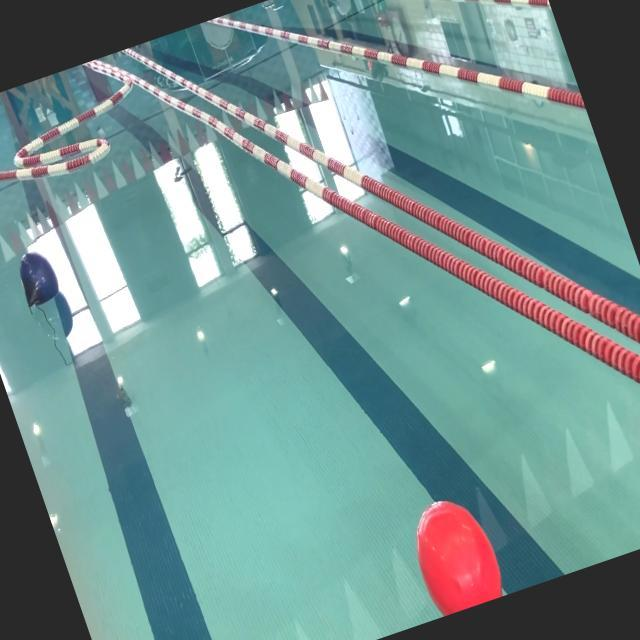buoy: (396, 481, 510, 618), (10, 248, 62, 308)
